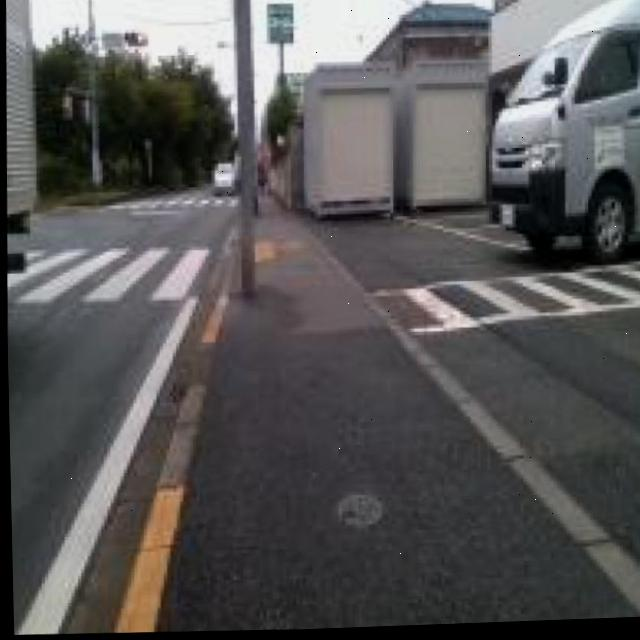Automobile: (491, 0, 640, 263), (6, 0, 34, 235), (210, 161, 235, 196)
Obstacle: (232, 0, 255, 299)
Road: (6, 193, 233, 634)
Sidewalk: (159, 203, 635, 633)
